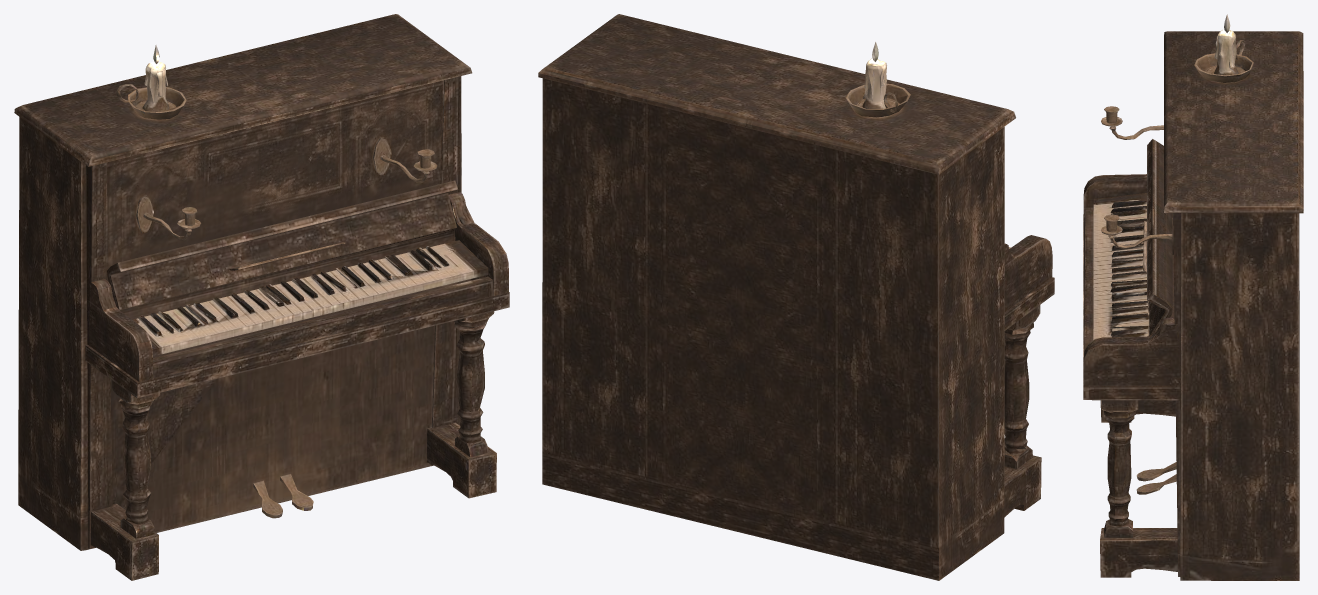
The model's file is jukebox.glb.
The picture shows the model from 3 angles, left to right: view 1: azimuth 30°, elevation 25°; view 2: azimuth 150°, elevation 25°; view 3: azimuth 270°, elevation 25°; orthographic projection. The views are drawn at different scales.
Parts seen in each view (by area): view 1: GLTF; view 2: GLTF; view 3: GLTF.
Boxes of the visible parts, box(x1,y1,x2,y2) form: GLTF: box(14, 14, 509, 580); GLTF: box(538, 14, 1054, 580); GLTF: box(1083, 14, 1303, 580).
Size of the model in its own units: 1.12 by 1.3 by 0.5928.
Materials: 1 (1 with a texture image).
